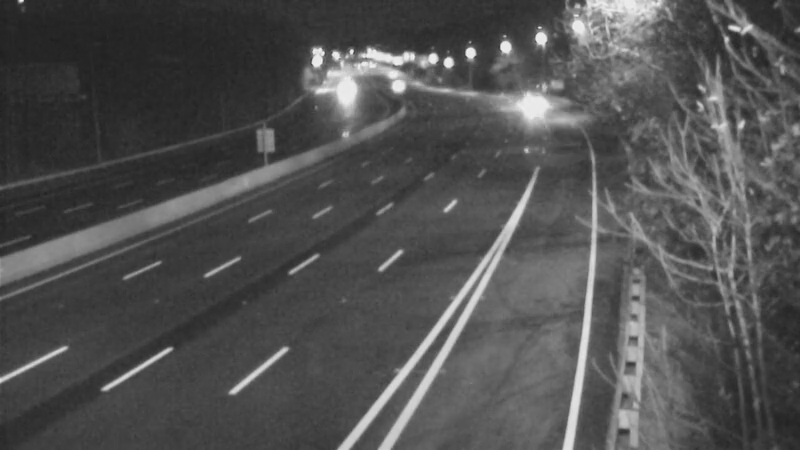vehicle: (370, 62, 420, 112), (498, 77, 548, 127), (320, 70, 370, 120)
